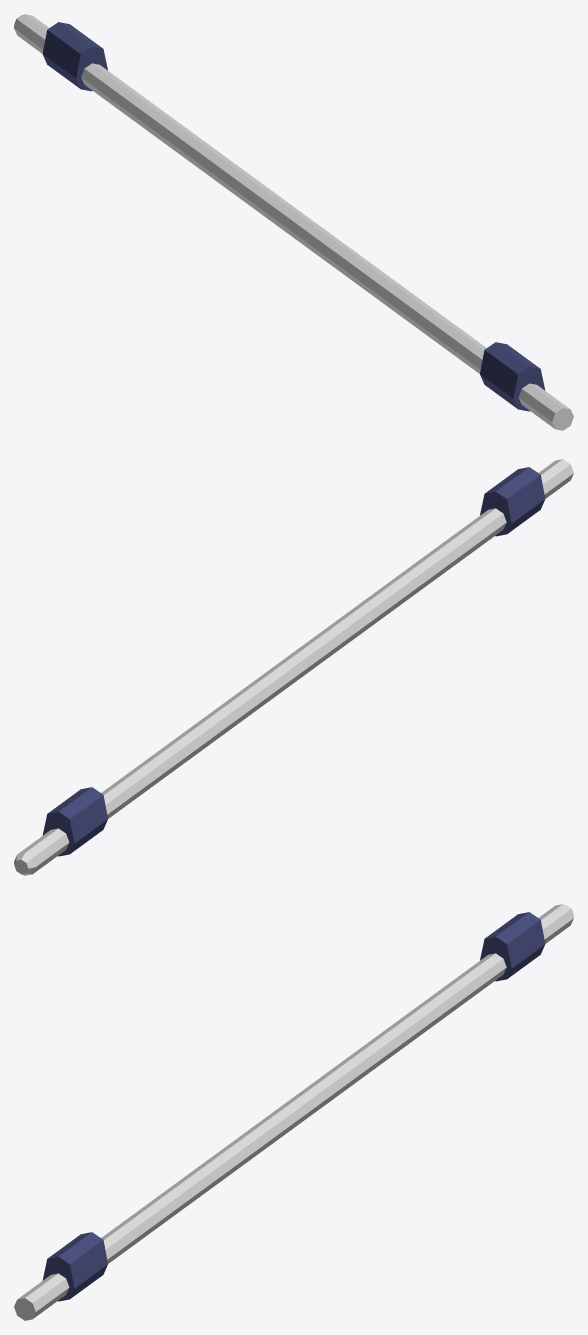
Rendered from LightBar.fbx.
The picture shows the model from 3 angles, top to bottom: view 1: azimuth 30°, elevation 25°; view 2: azimuth 150°, elevation 25°; view 3: azimuth 330°, elevation 25°; orthographic projection.
Parts seen in each view (by area): view 1: LightBar; view 2: LightBar; view 3: LightBar.
Part boxes in pixels (bbox=[...]): LightBar: bbox=[14, 14, 573, 430]; LightBar: bbox=[14, 459, 573, 875]; LightBar: bbox=[14, 904, 573, 1320].
Bounding box in the file's own units: 6.13 × 8.21 × 180.
